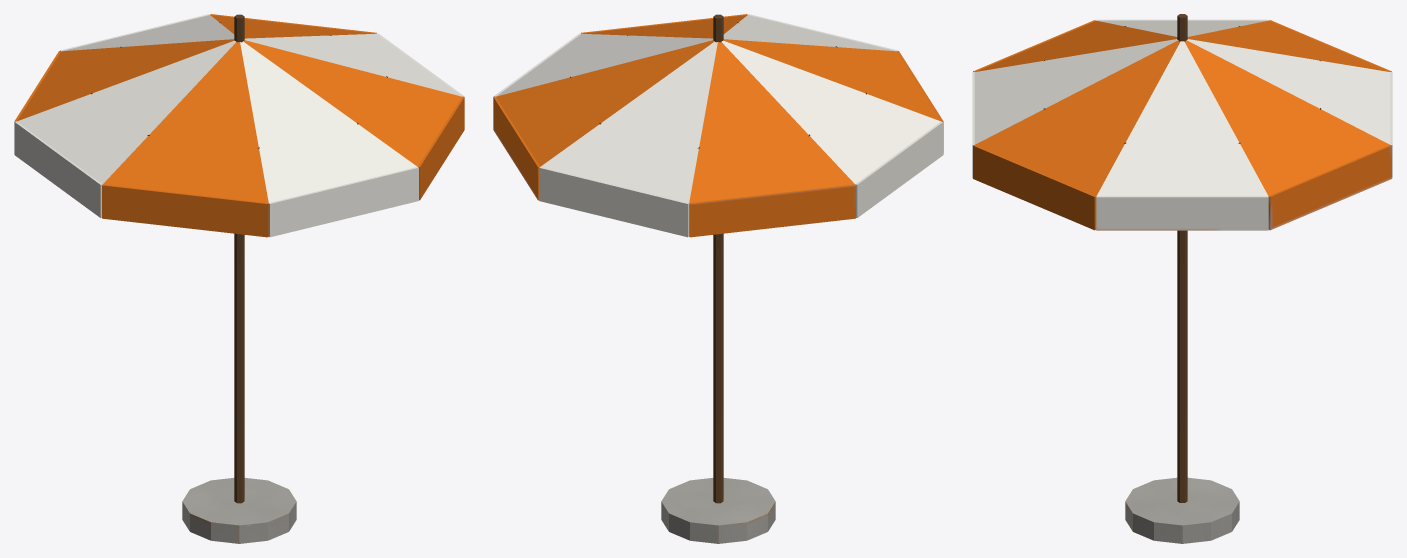
Rendered from slunecnik_a62d19ef.glb.
3 renders of one model, left to right at view 1: azimuth 30°, elevation 25°; view 2: azimuth 150°, elevation 25°; view 3: azimuth 270°, elevation 25°, orthographic.
Parts seen in each view (by area): view 1: dum; view 2: dum; view 3: dum.
Part boxes in pixels (bbox=[...]): dum: bbox=[14, 14, 464, 543]; dum: bbox=[493, 14, 943, 543]; dum: bbox=[972, 14, 1392, 543].
Bounding box in the file's own units: 2.05 × 2.71 × 2.05.
1 material, 1 textured.
